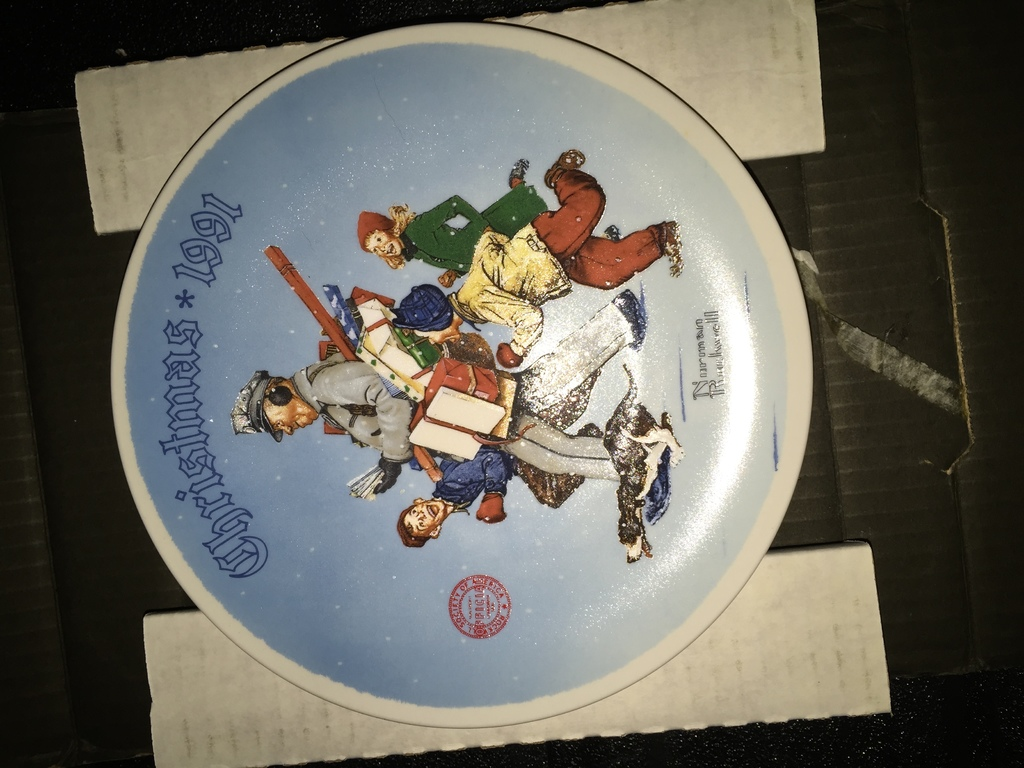plate: (104, 0, 784, 680)
